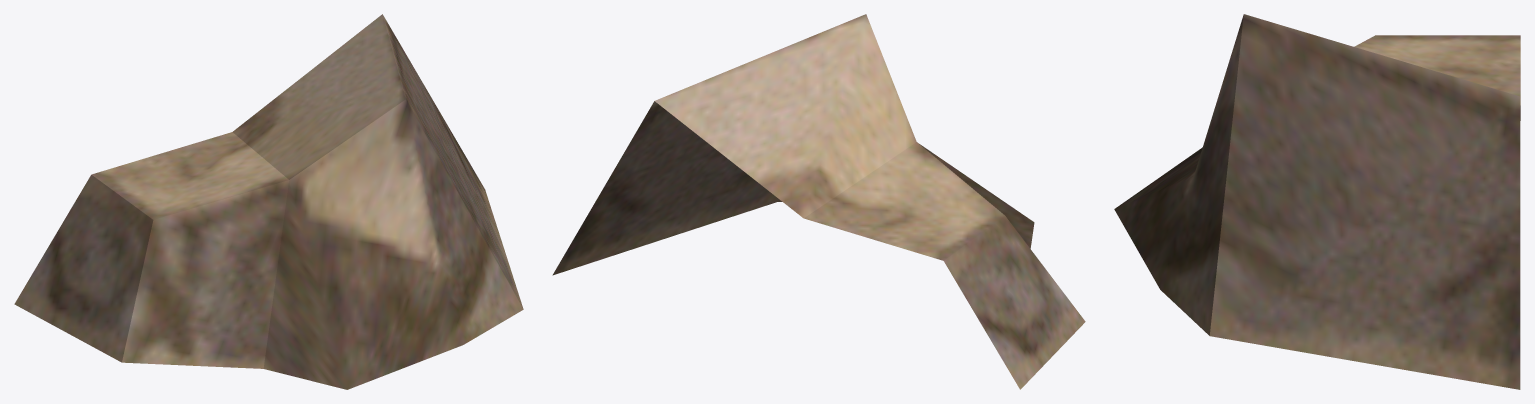
Rendered from archi_0075_01_02.FBX.
3 renders of one model, left to right at view 1: azimuth 30°, elevation 25°; view 2: azimuth 150°, elevation 25°; view 3: azimuth 270°, elevation 25°, orthographic. The views are drawn at different scales.
Parts seen in each view (by area): view 1: archi_0075_01_02; view 2: archi_0075_01_02; view 3: archi_0075_01_02.
Boxes of the visible parts, <box> form: archi_0075_01_02: <box>14,14,523,389</box>; archi_0075_01_02: <box>552,14,1085,389</box>; archi_0075_01_02: <box>1114,14,1520,389</box>.
Size of the model in its own units: 7.77 by 3.55 by 4.96.
